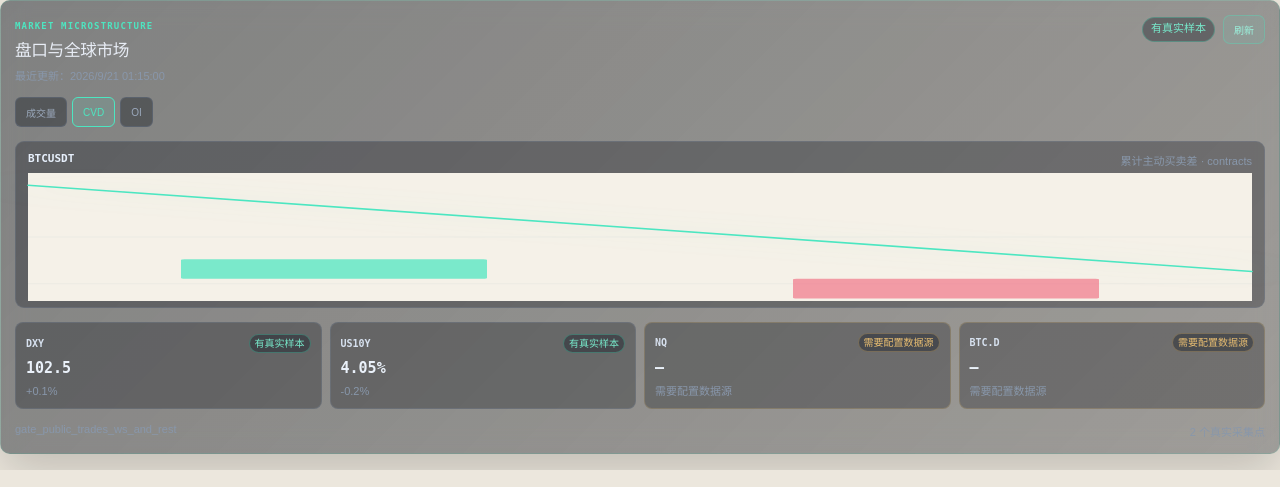
Scenario: MarketRadar › reports the selected feed state instead of claiming all metrics have samples
Expected: the heading "盘口与全球市场" is shown, [15,41,129,60]
Click the button "成交量" at (41, 112), box [15,97,67,127]
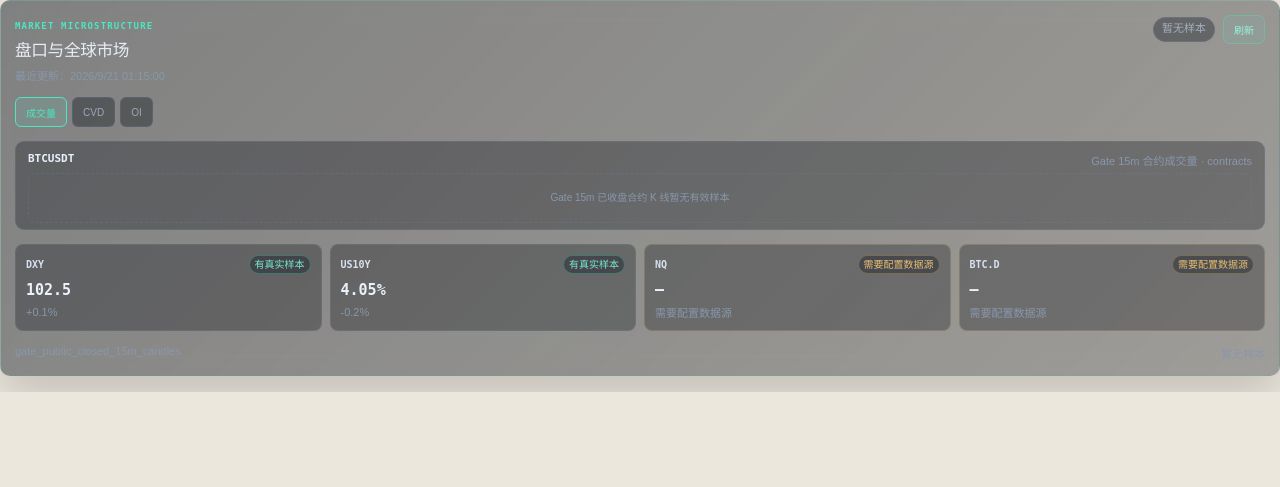
Result: the text "Gate 15m 已收盘合约 K 线暂无有效样本" is shown at [28,173,1252,222]
Result: the text "暂无样本" in the row of "MARKET MICROSTRUCTURE" is shown at [1162,22,1206,35]
